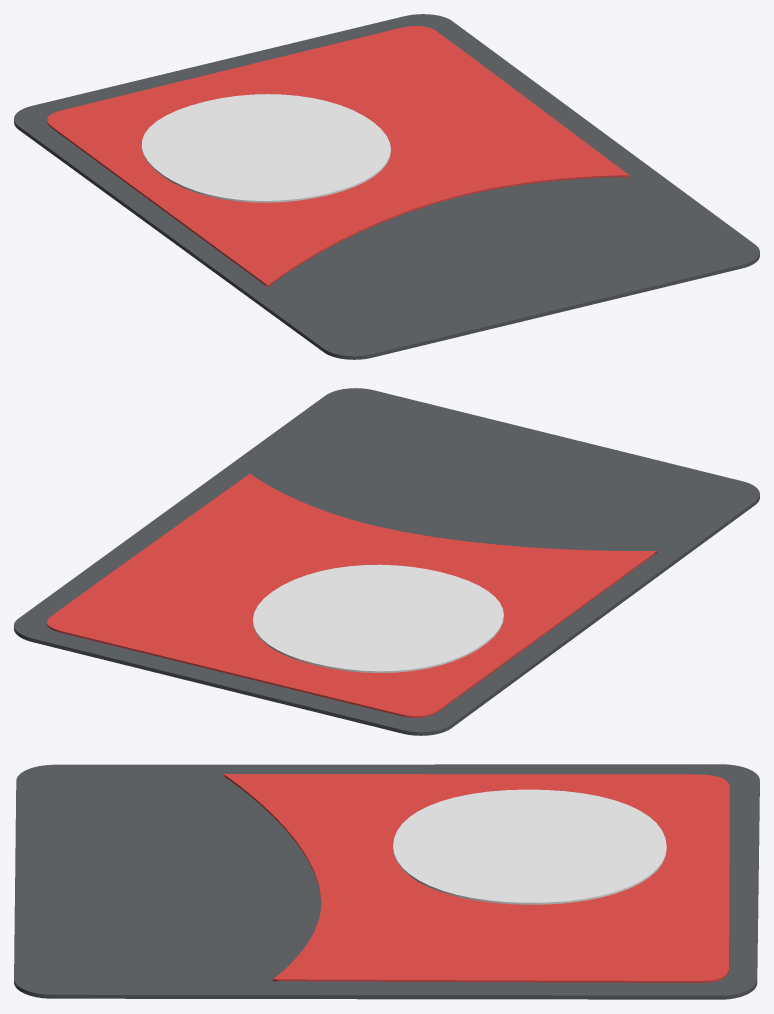
The model's file is emoji_u1f3b4.glb.
The picture shows the model from 3 angles, top to bottom: view 1: azimuth 30°, elevation 25°; view 2: azimuth 150°, elevation 25°; view 3: azimuth 270°, elevation 25°; orthographic projection. The views are drawn at different scales.
Parts seen in each view (by area): view 1: emoji_u1f3b4; view 2: emoji_u1f3b4; view 3: emoji_u1f3b4.
Boxes of the visible parts, bbox=[...] form: emoji_u1f3b4: bbox=[14, 14, 759, 359]; emoji_u1f3b4: bbox=[14, 388, 759, 735]; emoji_u1f3b4: bbox=[14, 764, 759, 999].
Bounding box in the file's own units: 0.0251 × 0.0006 × 0.0342.
